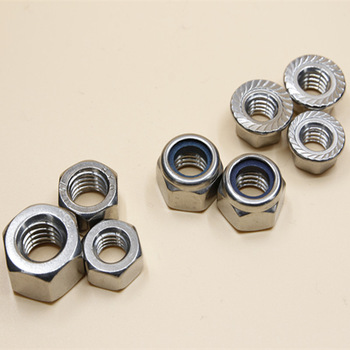hex nut: (1, 197, 90, 309), (53, 150, 124, 233), (77, 212, 148, 295)
lock nut: (151, 125, 226, 223), (213, 144, 288, 242)
